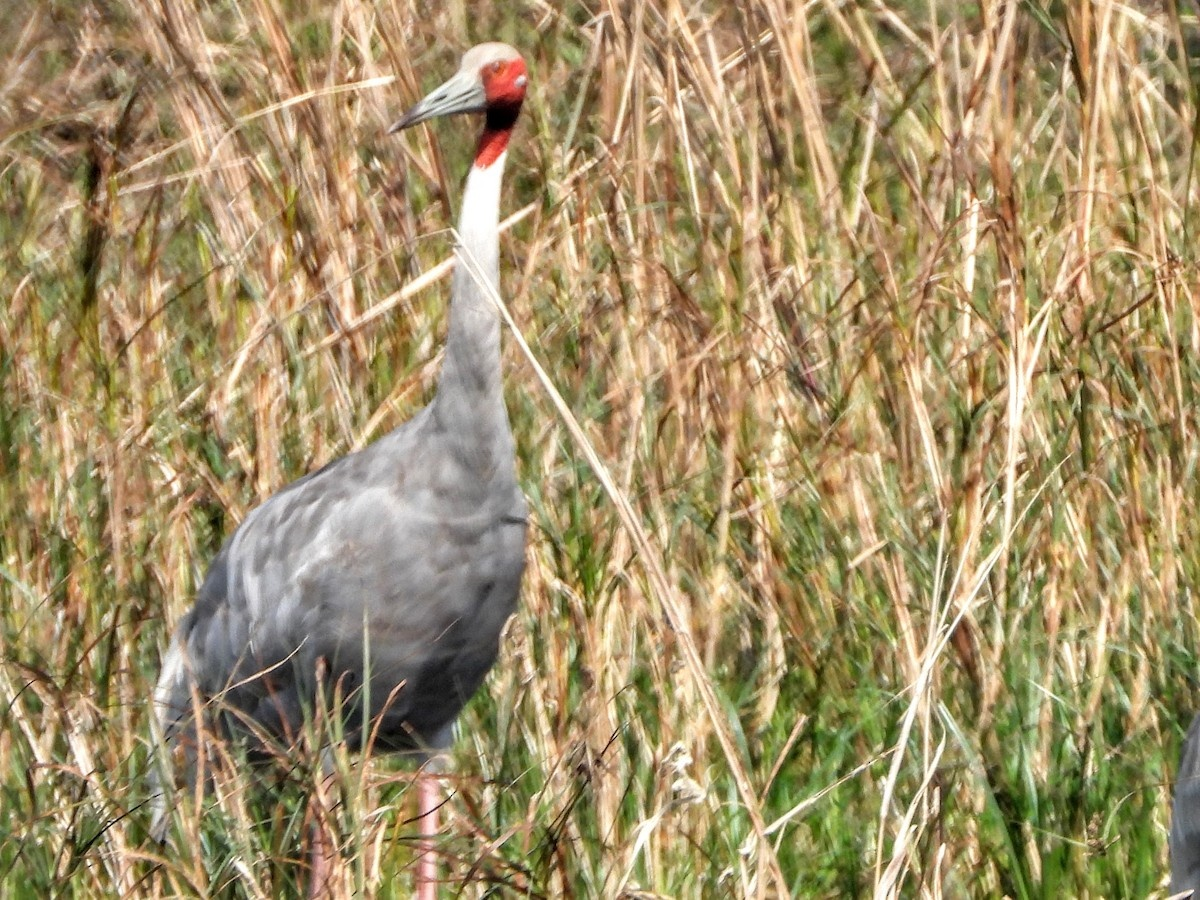crane: (152, 25, 546, 842)
